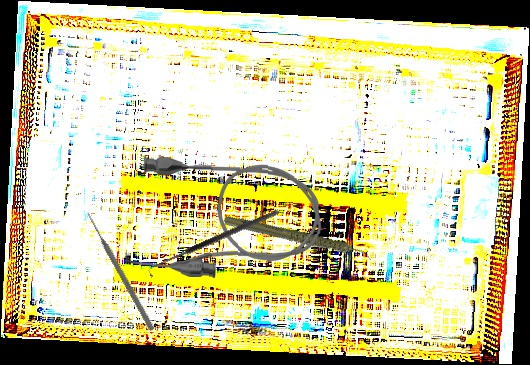Cannula: (124, 155, 325, 282)
Handpiece: (221, 186, 374, 292)
Hook Surgical: (146, 208, 283, 279)
Pusher: (84, 210, 156, 332)
